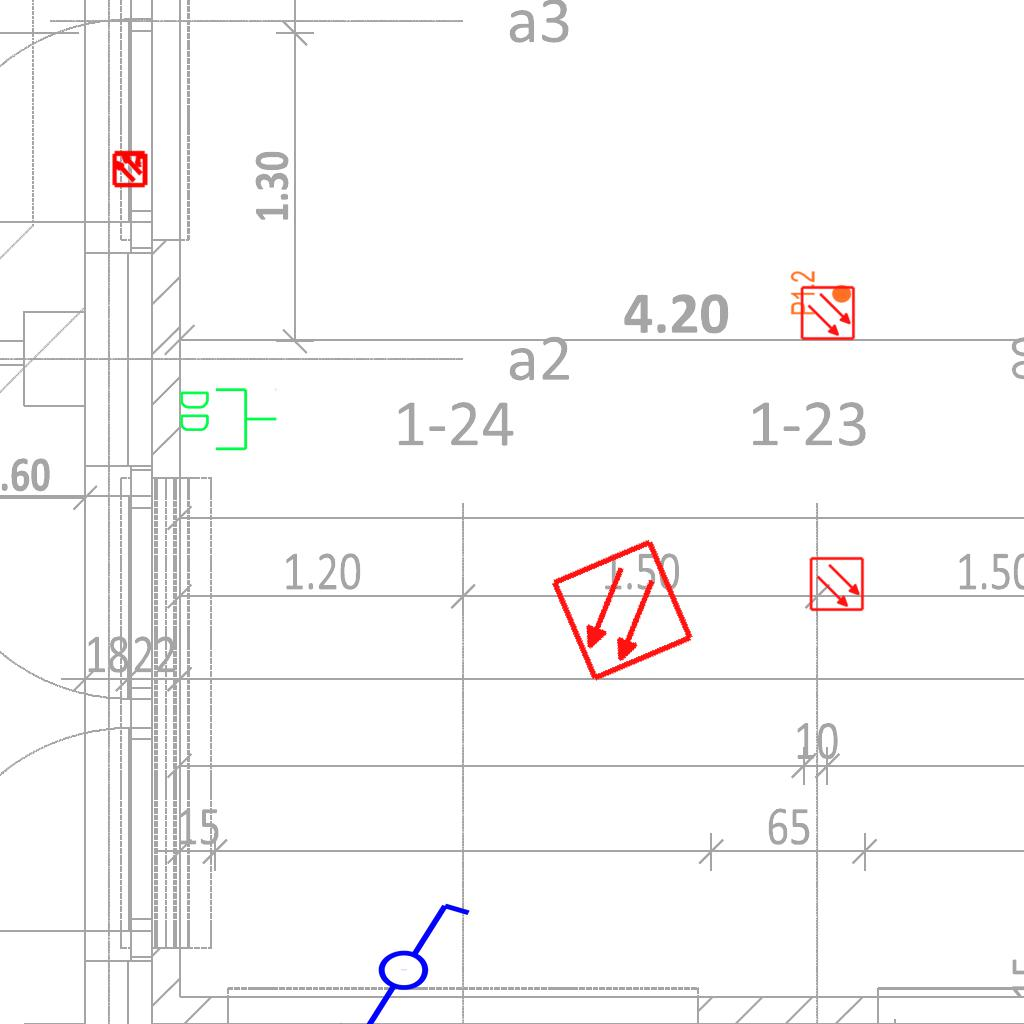Datenanschluss_zweifach: (176, 384, 279, 453)
Downlight_LED_Einbauleuchten_Flur: (789, 270, 853, 316)
OT_Multisensormelder_(Kombination_RMO_WMD): (102, 140, 158, 196)
RMO_Rauchmelder_optischer: (548, 536, 697, 685), (809, 556, 865, 612), (800, 285, 856, 341)
Wechselschalter: (317, 896, 474, 1024)
